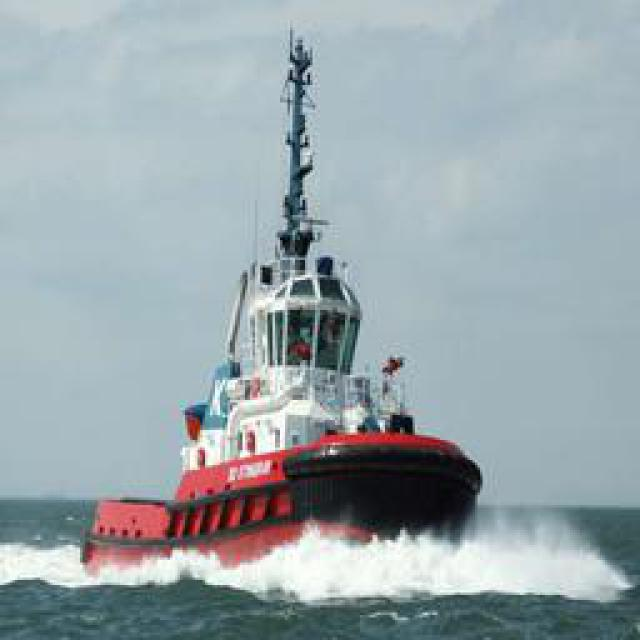Ship: (85, 10, 510, 570)
